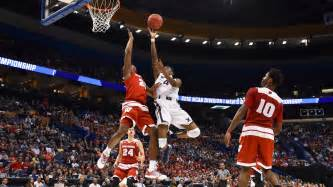basketball: (146, 12, 163, 29)
